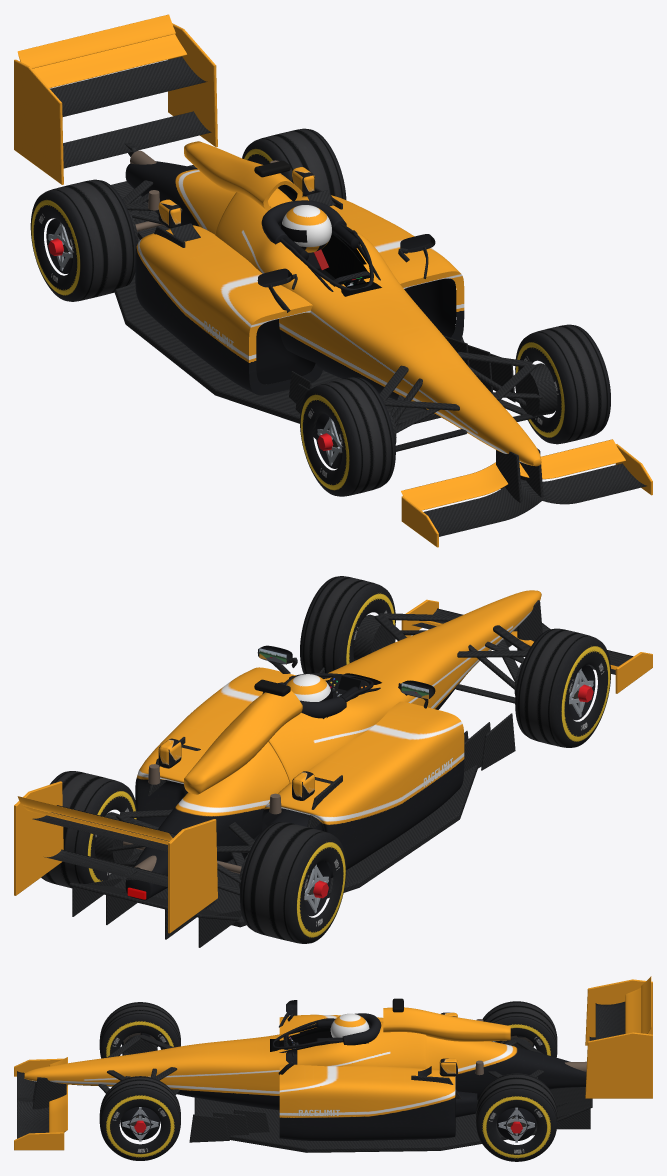
The model's file is car_1998.glb.
3 views of the same model, one above another, from view 1: azimuth 30°, elevation 25°; view 2: azimuth 150°, elevation 25°; view 3: azimuth 270°, elevation 25° (orthographic). The views are drawn at different scales.
Visible parts, largest first — view 1: RL_Car, RL_HideInCockpit_0, RL_WheelSpin_RR, RL_WheelSpin_FR, RL_WheelSpin_FL, RL_WheelSpin_RL, RL_HideInCockpit_4, RL_HideInCockpit_8; view 2: RL_Car, RL_HideInCockpit_0, RL_WheelSpin_RR, RL_WheelSpin_FR, RL_WheelSpin_FL, RL_WheelSpin_RL, RL_HideInCockpit_4; view 3: RL_Car, RL_HideInCockpit_0, RL_WheelSpin_RL, RL_WheelSpin_FL, RL_WheelSpin_FR, RL_WheelSpin_RR, RL_HideInCockpit_4, RL_HideInCockpit_8, RL_HideInCockpit_3.
Part boxes in pixels (x1,y1,x2,y2): RL_Car: (14, 14, 652, 547); RL_HideInCockpit_0: (125, 161, 541, 466); RL_WheelSpin_RR: (30, 179, 137, 301); RL_WheelSpin_FR: (300, 377, 396, 496); RL_WheelSpin_FL: (515, 324, 610, 444); RL_WheelSpin_RL: (242, 128, 346, 199); RL_HideInCockpit_4: (282, 205, 331, 252); RL_HideInCockpit_8: (321, 234, 368, 278); RL_Car: (14, 599, 652, 947); RL_HideInCockpit_0: (125, 590, 541, 900); RL_WheelSpin_RR: (239, 822, 346, 943); RL_WheelSpin_FR: (514, 628, 610, 747); RL_WheelSpin_FL: (300, 576, 395, 673); RL_WheelSpin_RL: (41, 771, 137, 888); RL_HideInCockpit_4: (286, 674, 330, 701); RL_Car: (14, 976, 652, 1152); RL_HideInCockpit_0: (24, 1021, 586, 1110); RL_WheelSpin_RL: (476, 1073, 557, 1161); RL_WheelSpin_FL: (99, 1076, 180, 1160); RL_WheelSpin_FR: (99, 1002, 180, 1058); RL_WheelSpin_RR: (482, 1001, 557, 1057); RL_HideInCockpit_4: (330, 1013, 369, 1037); RL_HideInCockpit_8: (279, 1025, 332, 1049); RL_HideInCockpit_3: (273, 1018, 343, 1049).
Size of the model in its own units: 1.8 by 1.04 by 5.18.
Materials: 63 (14 with a texture image).
